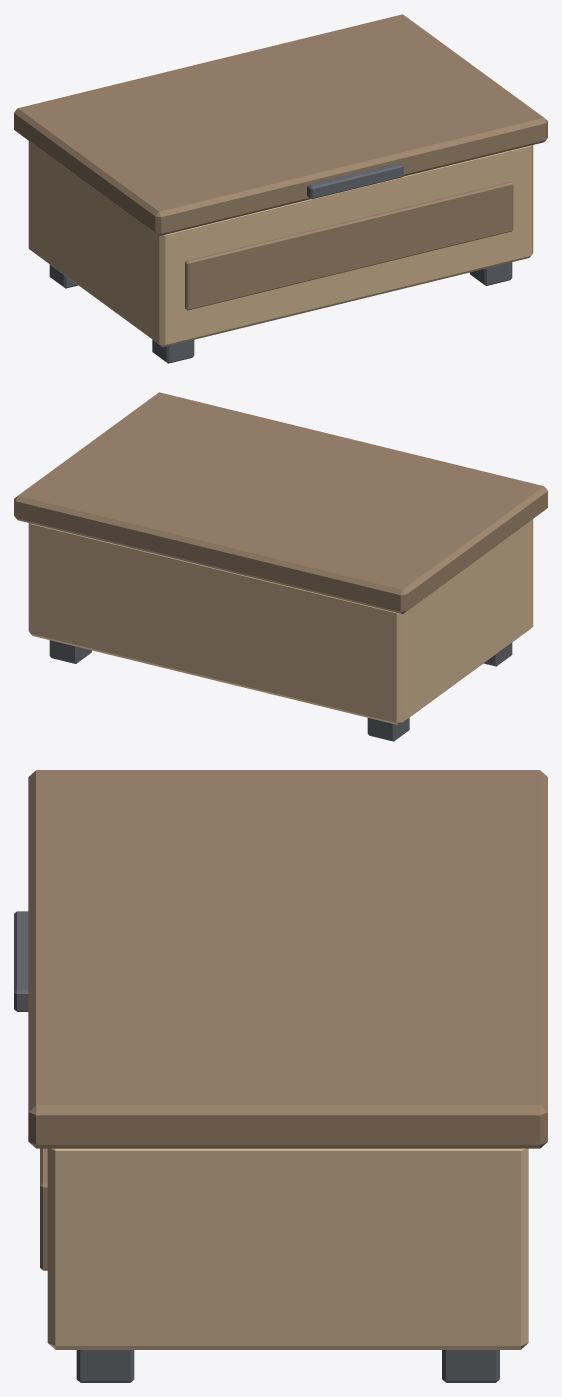
File: bedroom-and-living-room-furniture-underbed-storage-box-d7188b47.glb
3 renders of one model, top to bottom at view 1: azimuth 30°, elevation 25°; view 2: azimuth 150°, elevation 25°; view 3: azimuth 270°, elevation 25°, orthographic. The views are drawn at different scales.
Parts seen in each view (by area): view 1: lid/walnut, underbed-storage-box, lid/black; view 2: lid/walnut, underbed-storage-box; view 3: lid/walnut, underbed-storage-box, lid/black.
Part boxes in pixels (box(x1,y1,x2,y2)): lid/walnut: box(14, 14, 547, 235); underbed-storage-box: box(28, 141, 533, 363); lid/black: box(307, 162, 403, 199); lid/walnut: box(14, 392, 547, 613); underbed-storage-box: box(28, 519, 533, 741); lid/walnut: box(28, 770, 547, 1148); underbed-storage-box: box(40, 1148, 528, 1382); lid/black: box(14, 911, 28, 1011).
Bounding box in the file's own units: 0.84 × 0.34 × 0.555.
